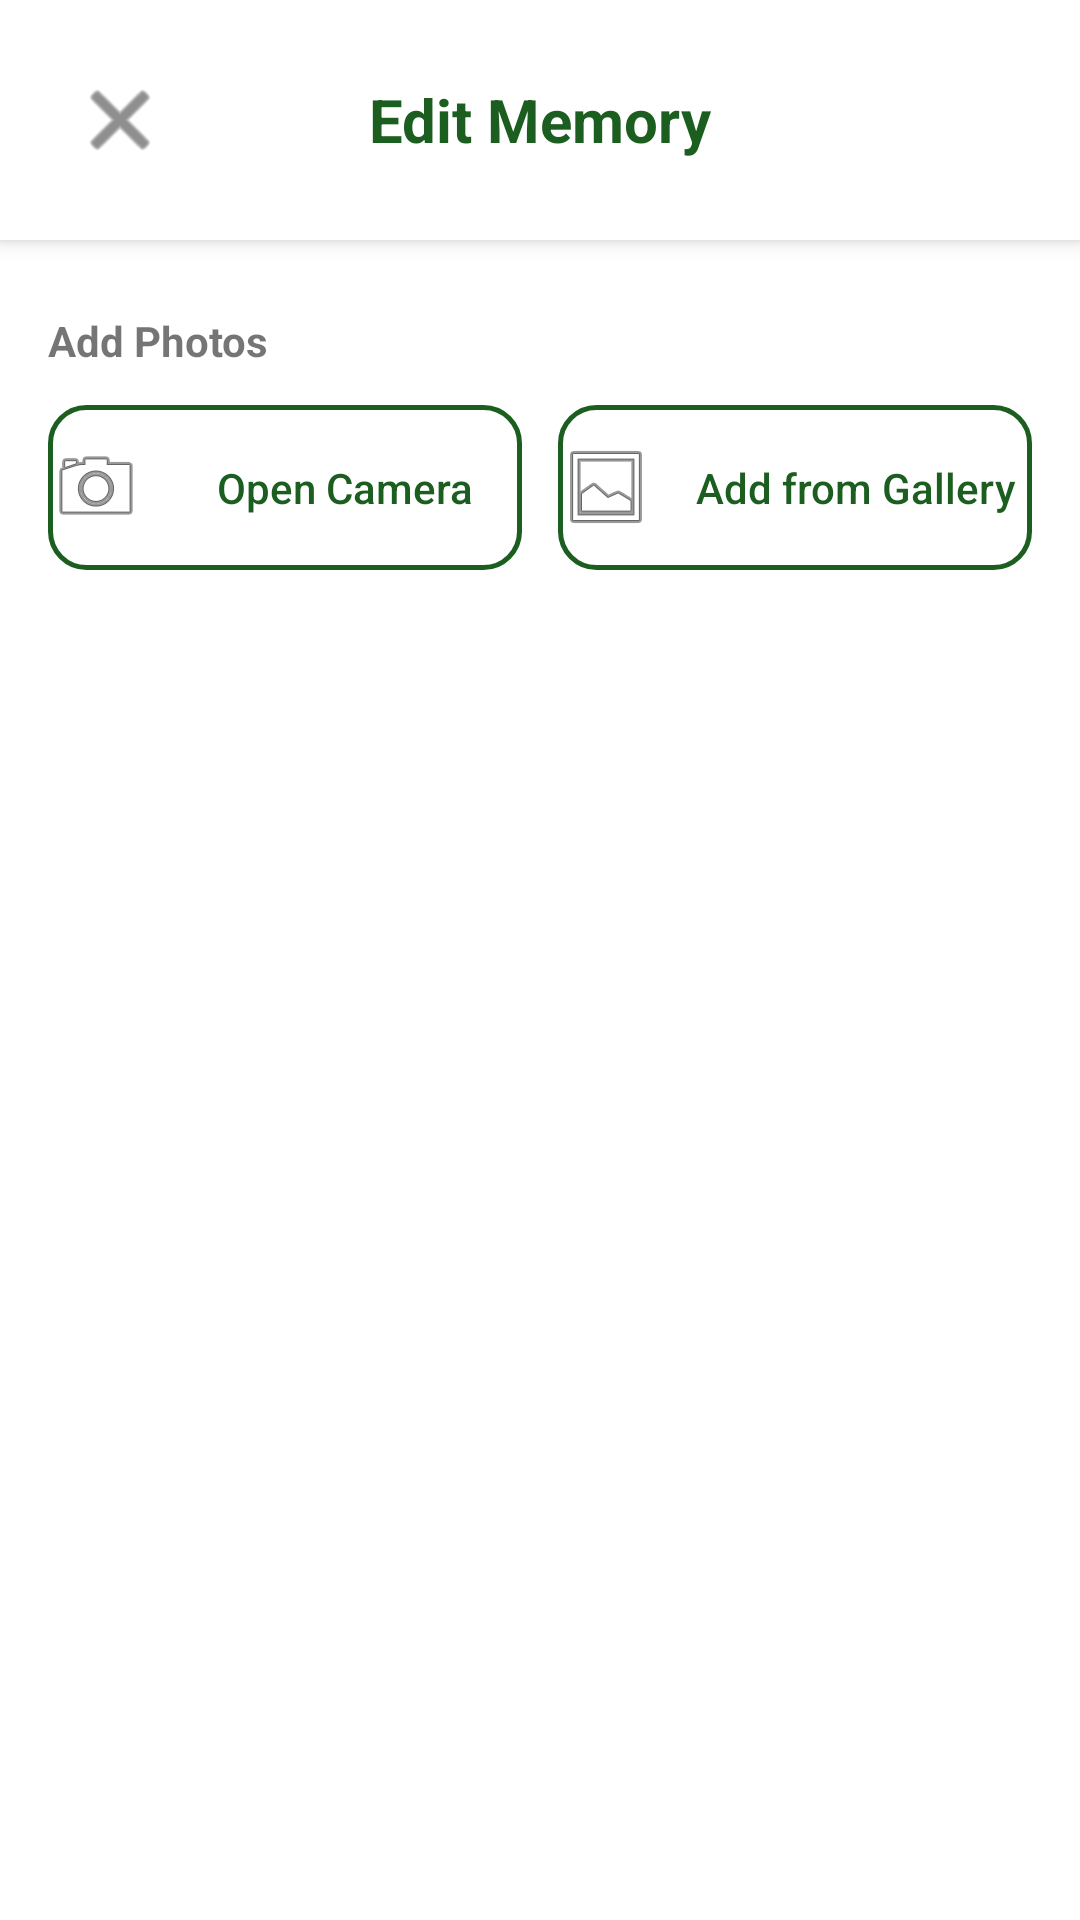

Point at icon controls on the screen. Image size 1080 x 1920, points as (x=x, y=y).
Close: (x=120, y=120)
